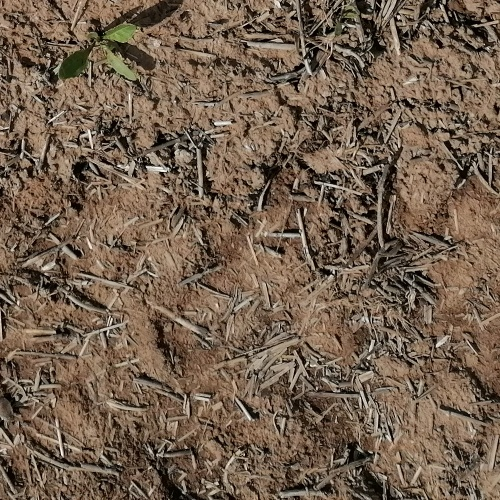beet: (60, 20, 138, 83)
